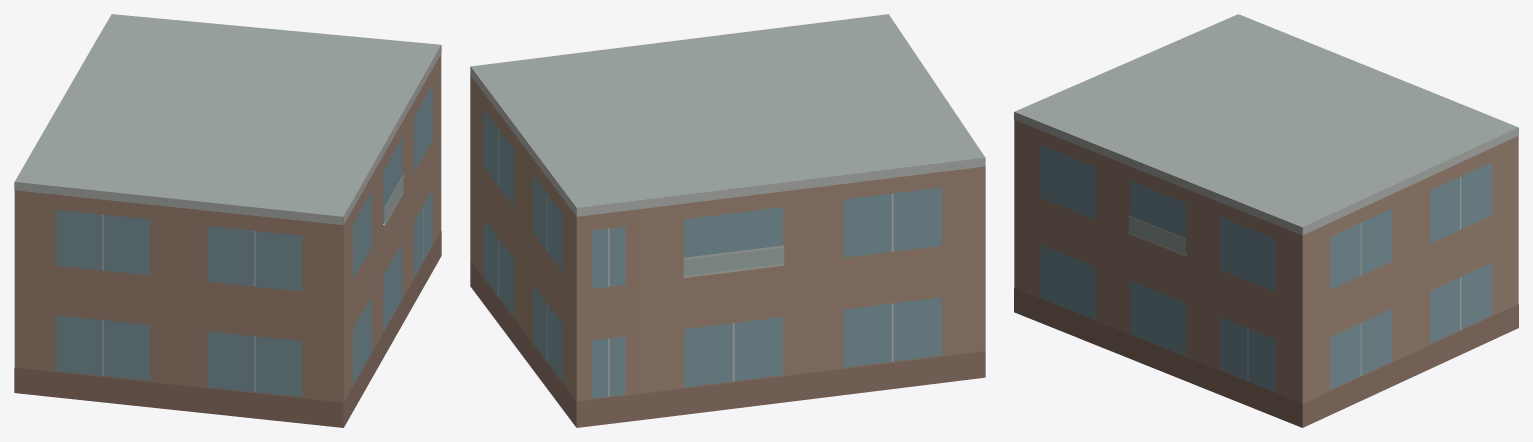
Rendered from survey-upis-32778425.glb.
The picture shows the model from 3 angles, left to right: view 1: azimuth 30°, elevation 25°; view 2: azimuth 150°, elevation 25°; view 3: azimuth 270°, elevation 25°; orthographic projection. The views are drawn at different scales.
Parts seen in each view (by area): view 1: survey-upis-32778425.tmp; view 2: survey-upis-32778425.tmp; view 3: survey-upis-32778425.tmp.
Part boxes in pixels (x1,y1,x2,y2): survey-upis-32778425.tmp: (14, 14, 441, 427); survey-upis-32778425.tmp: (470, 14, 985, 427); survey-upis-32778425.tmp: (1014, 14, 1518, 427).
Bounding box in the file's own units: 13.94 × 6.1 × 13.93.
